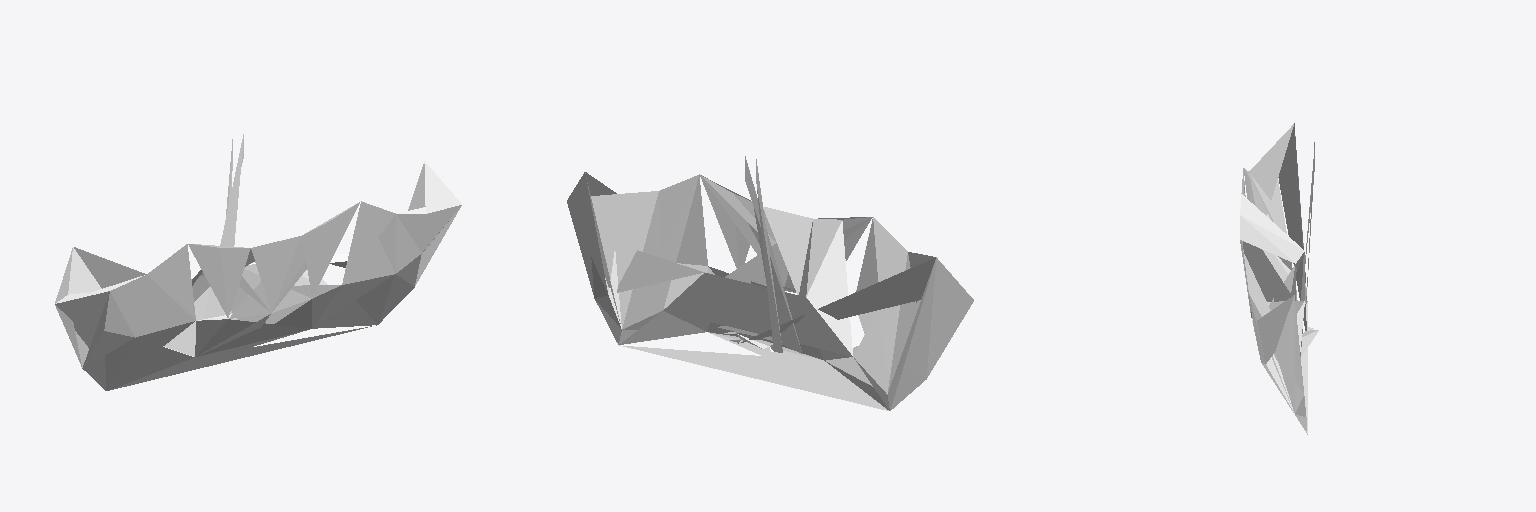
The model's file is ZKITE.obj.
The picture shows the model from 3 angles: view 1: azimuth 30°, elevation 25°; view 2: azimuth 150°, elevation 25°; view 3: azimuth 270°, elevation 25°; orthographic projection.
Visible parts, largest first — view 1: ZKITE_node00_face01, ZKITE_node00_face00, ZKITE_node06_face00; view 2: ZKITE_node00_face01, ZKITE_node00_face00, ZKITE_node06_face00; view 3: ZKITE_node00_face01, ZKITE_node00_face00.
Part boxes in pixels (bbox=[...]): ZKITE_node00_face01: bbox=[55, 134, 461, 390]; ZKITE_node00_face00: bbox=[55, 164, 448, 390]; ZKITE_node06_face00: bbox=[317, 214, 395, 327]; ZKITE_node00_face01: bbox=[585, 156, 973, 410]; ZKITE_node00_face00: bbox=[567, 172, 935, 410]; ZKITE_node06_face00: bbox=[622, 175, 707, 329]; ZKITE_node00_face01: bbox=[1240, 123, 1318, 434]; ZKITE_node00_face00: bbox=[1240, 124, 1307, 433].
Size of the model in its own units: 940 by 495 by 160.